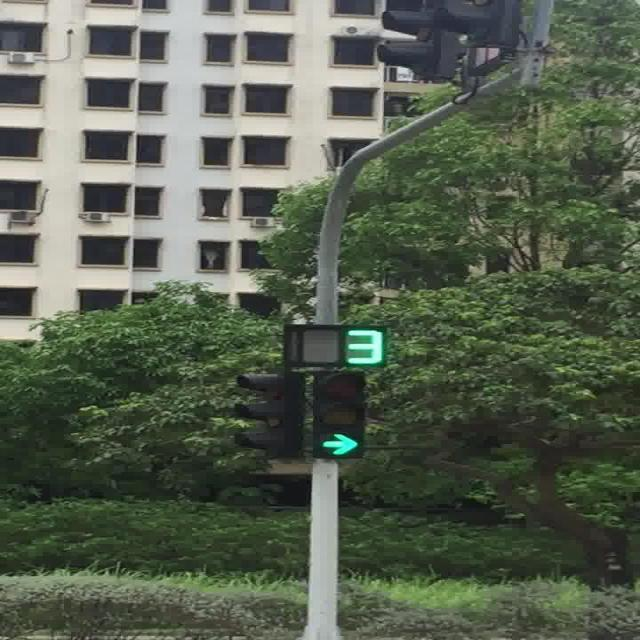green_light: (314, 371, 364, 459)
